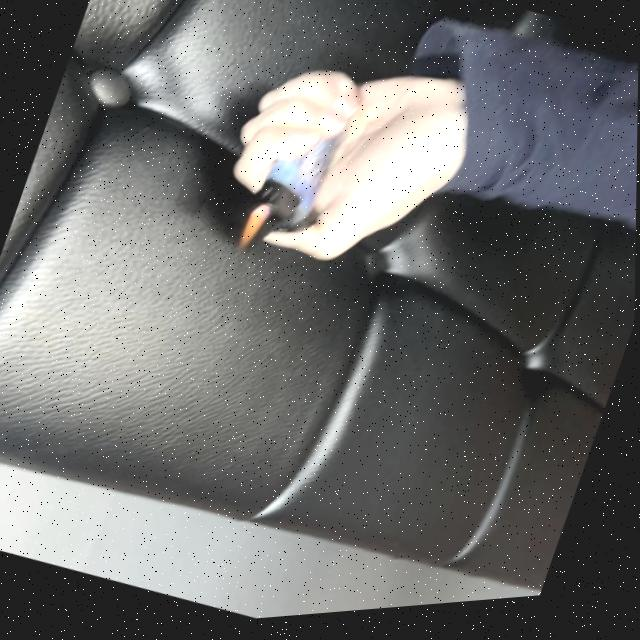Fire: (237, 204, 273, 257)
